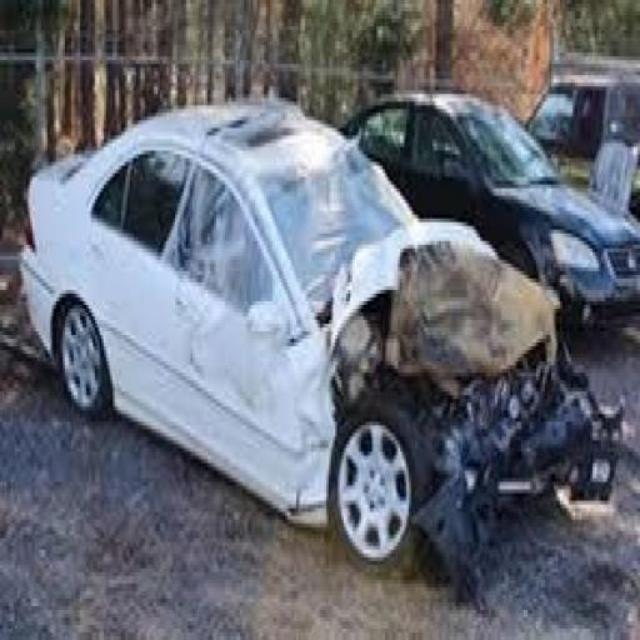crash: (168, 131, 624, 595)
